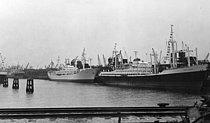Ship: (97, 22, 210, 100), (45, 55, 105, 86)
